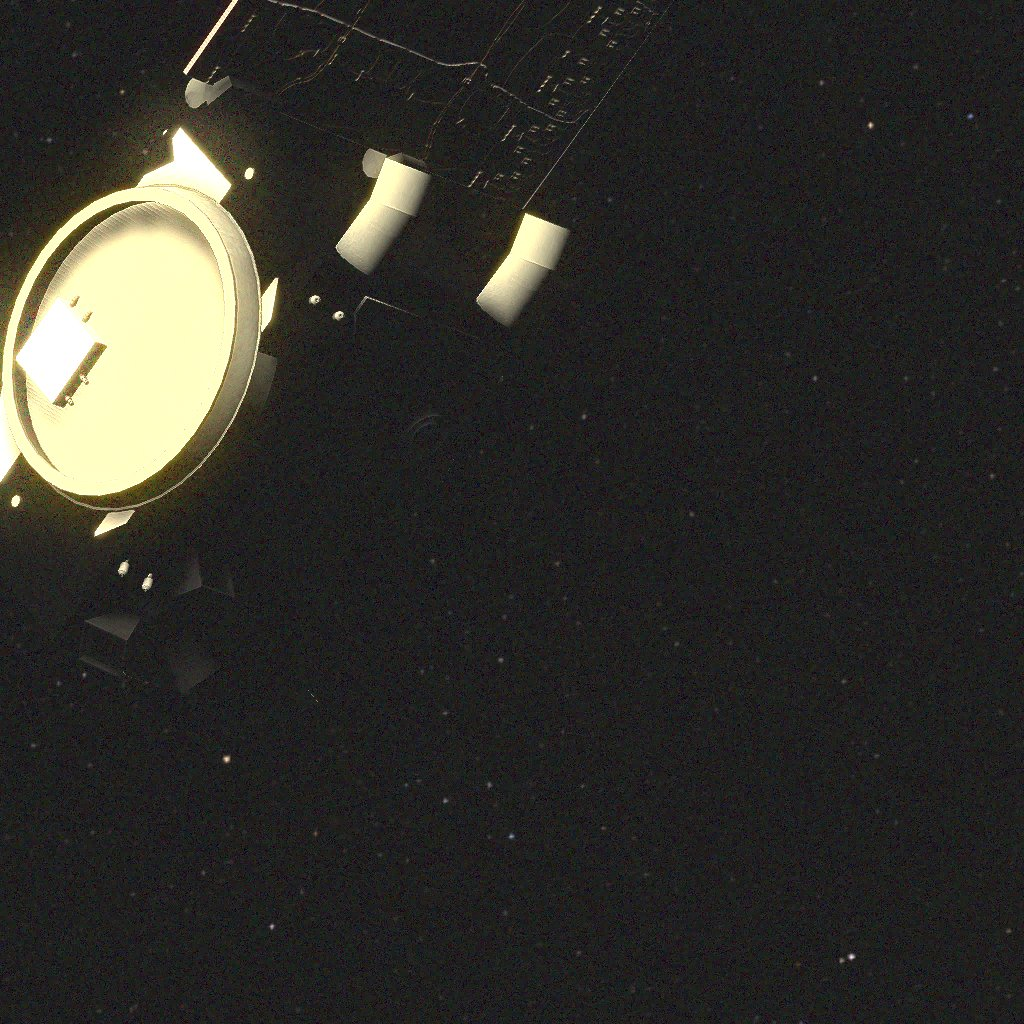proba_3_csc: (0, 0, 674, 721)
